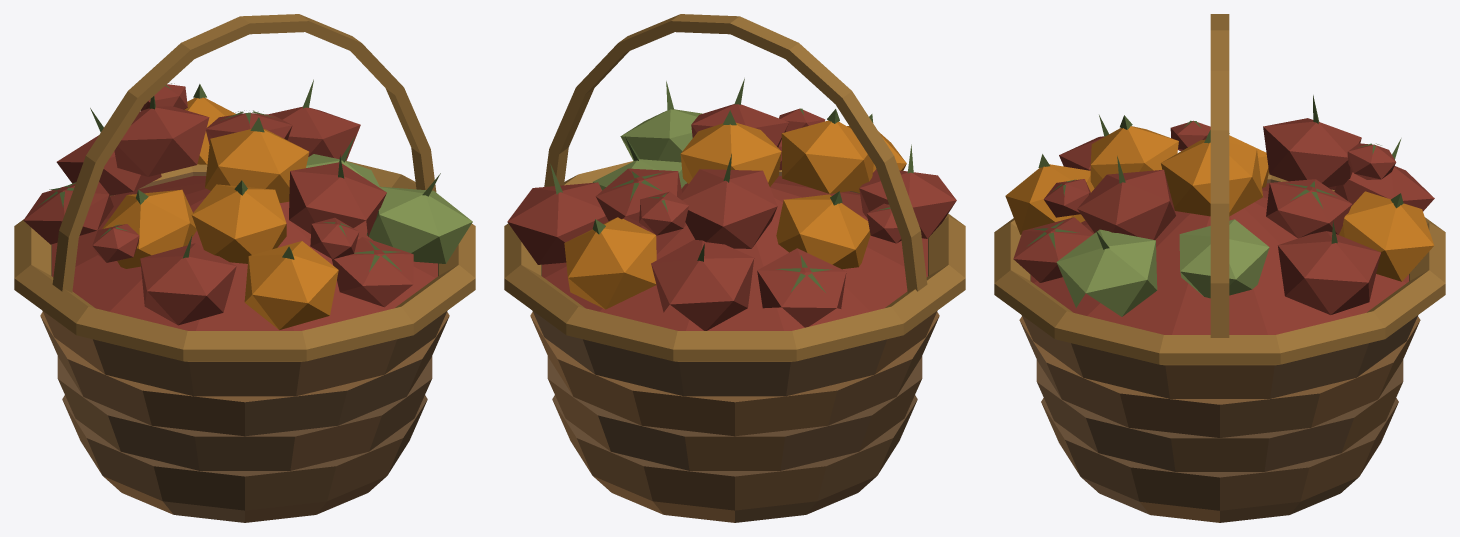
File: basket-of-produce-7420cf.glb
3 views of the same model, side by side, from view 1: azimuth 30°, elevation 25°; view 2: azimuth 150°, elevation 25°; view 3: azimuth 270°, elevation 25° (orthographic). The views are drawn at different scales.
Parts seen in each view (by area): view 1: basket; view 2: basket; view 3: basket.
Boxes of the visible parts, x1=… form: basket: x1=14, y1=14, x2=475, y2=522; basket: x1=504, y1=14, x2=965, y2=522; basket: x1=994, y1=14, x2=1445, y2=522.
Bounding box in the file's own units: 0.5 × 0.53 × 0.5.
